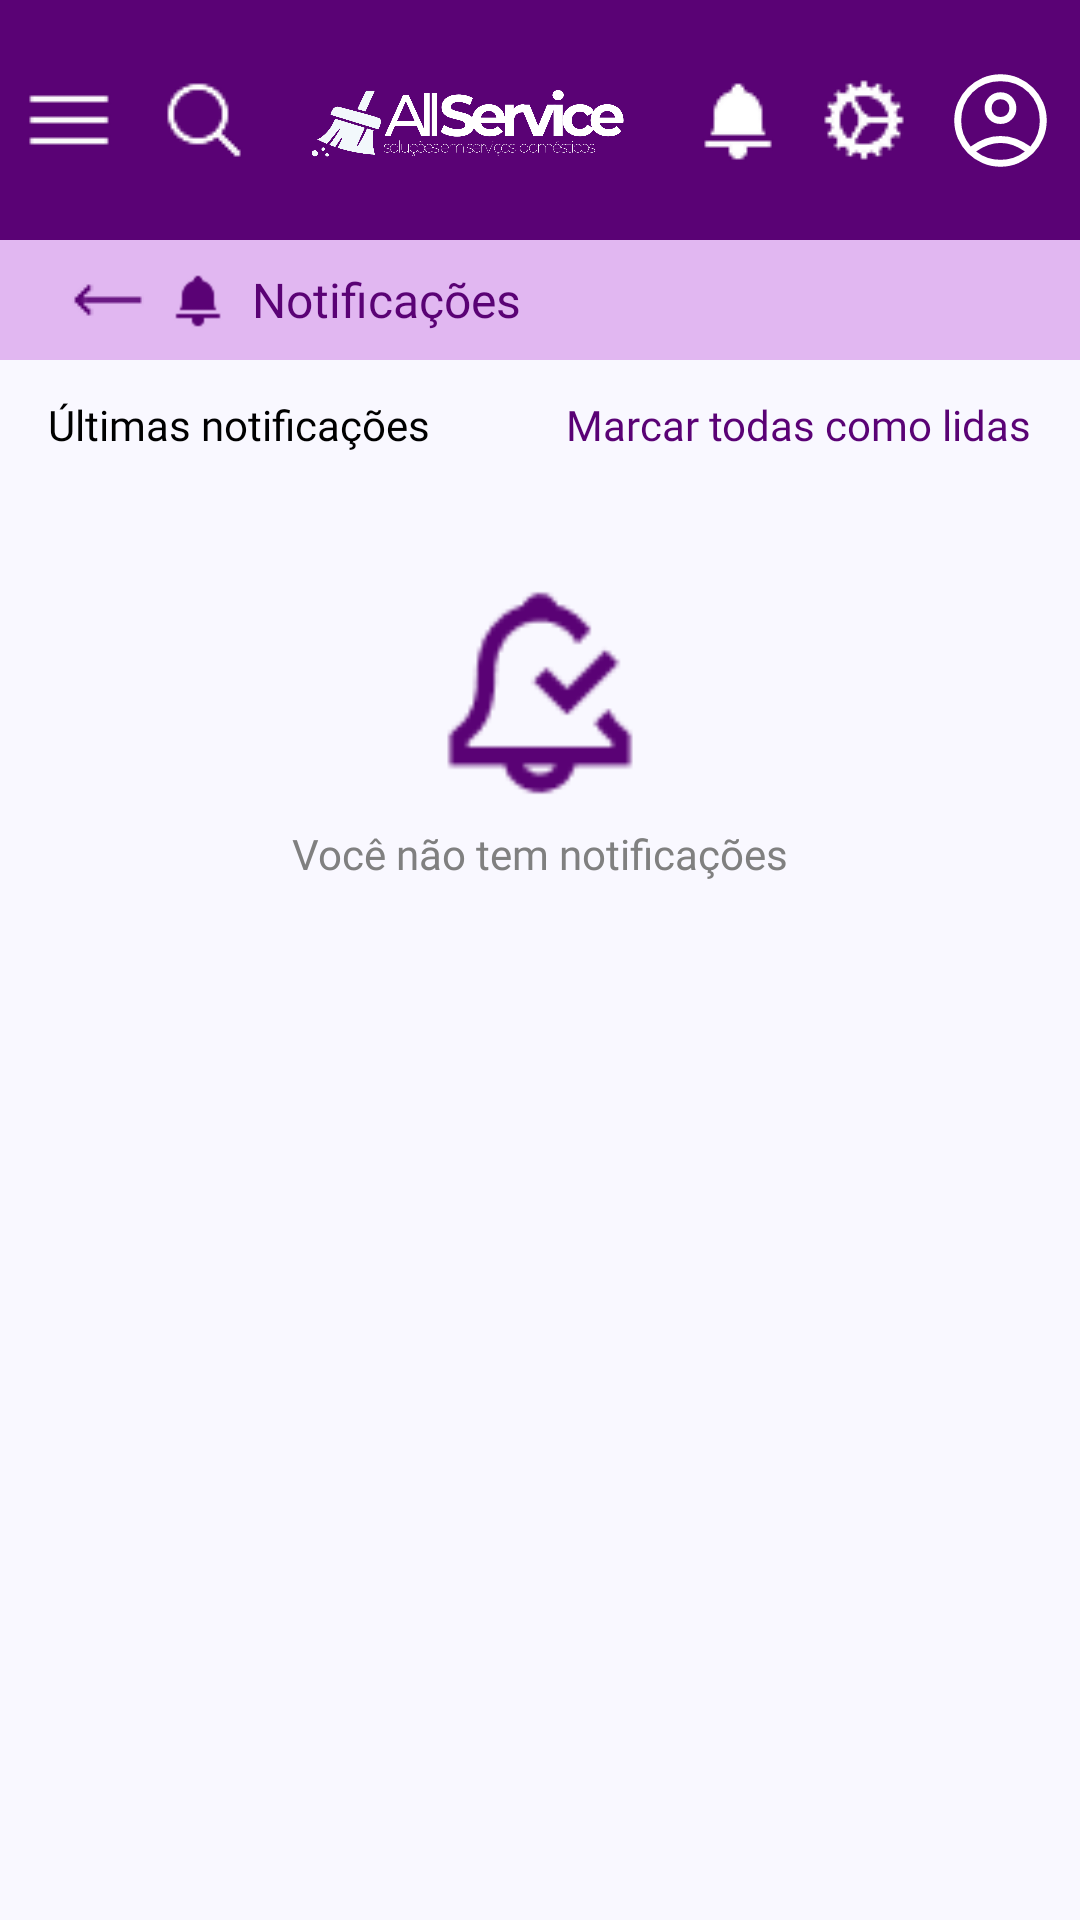

Screen size 1080 x 1920. Icon name, then its box in pixels as (x1, y1, x2, y2):
Buscar: (167, 83, 241, 157)
Configurações: (824, 80, 904, 160)
Menu: (29, 95, 109, 145)
notification: (175, 275, 221, 327)
notifications done: (447, 592, 633, 794)
Notificações: (704, 83, 772, 160)
Perfil: (954, 74, 1047, 167)
Voltar: (74, 284, 142, 316)
